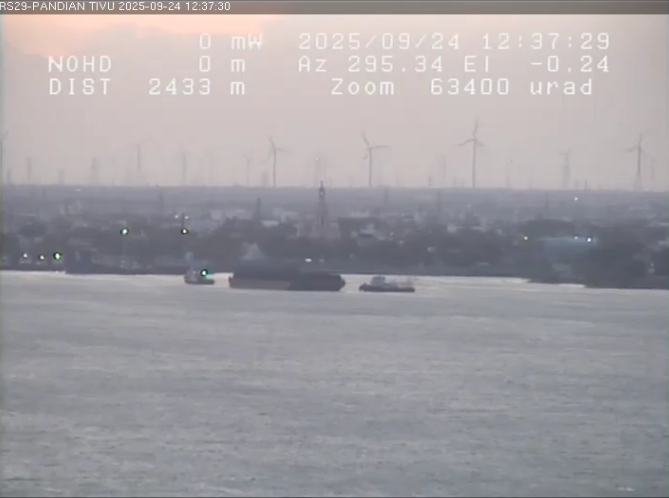BARGE: (224, 252, 349, 297)
TOWING: (158, 233, 458, 330)
TUGS: (356, 253, 434, 305), (176, 259, 222, 294)
